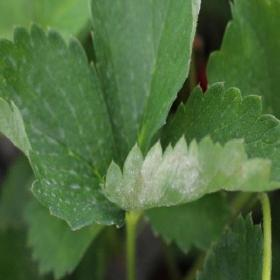Powdery Mildew Leaf: (99, 81, 279, 211)
